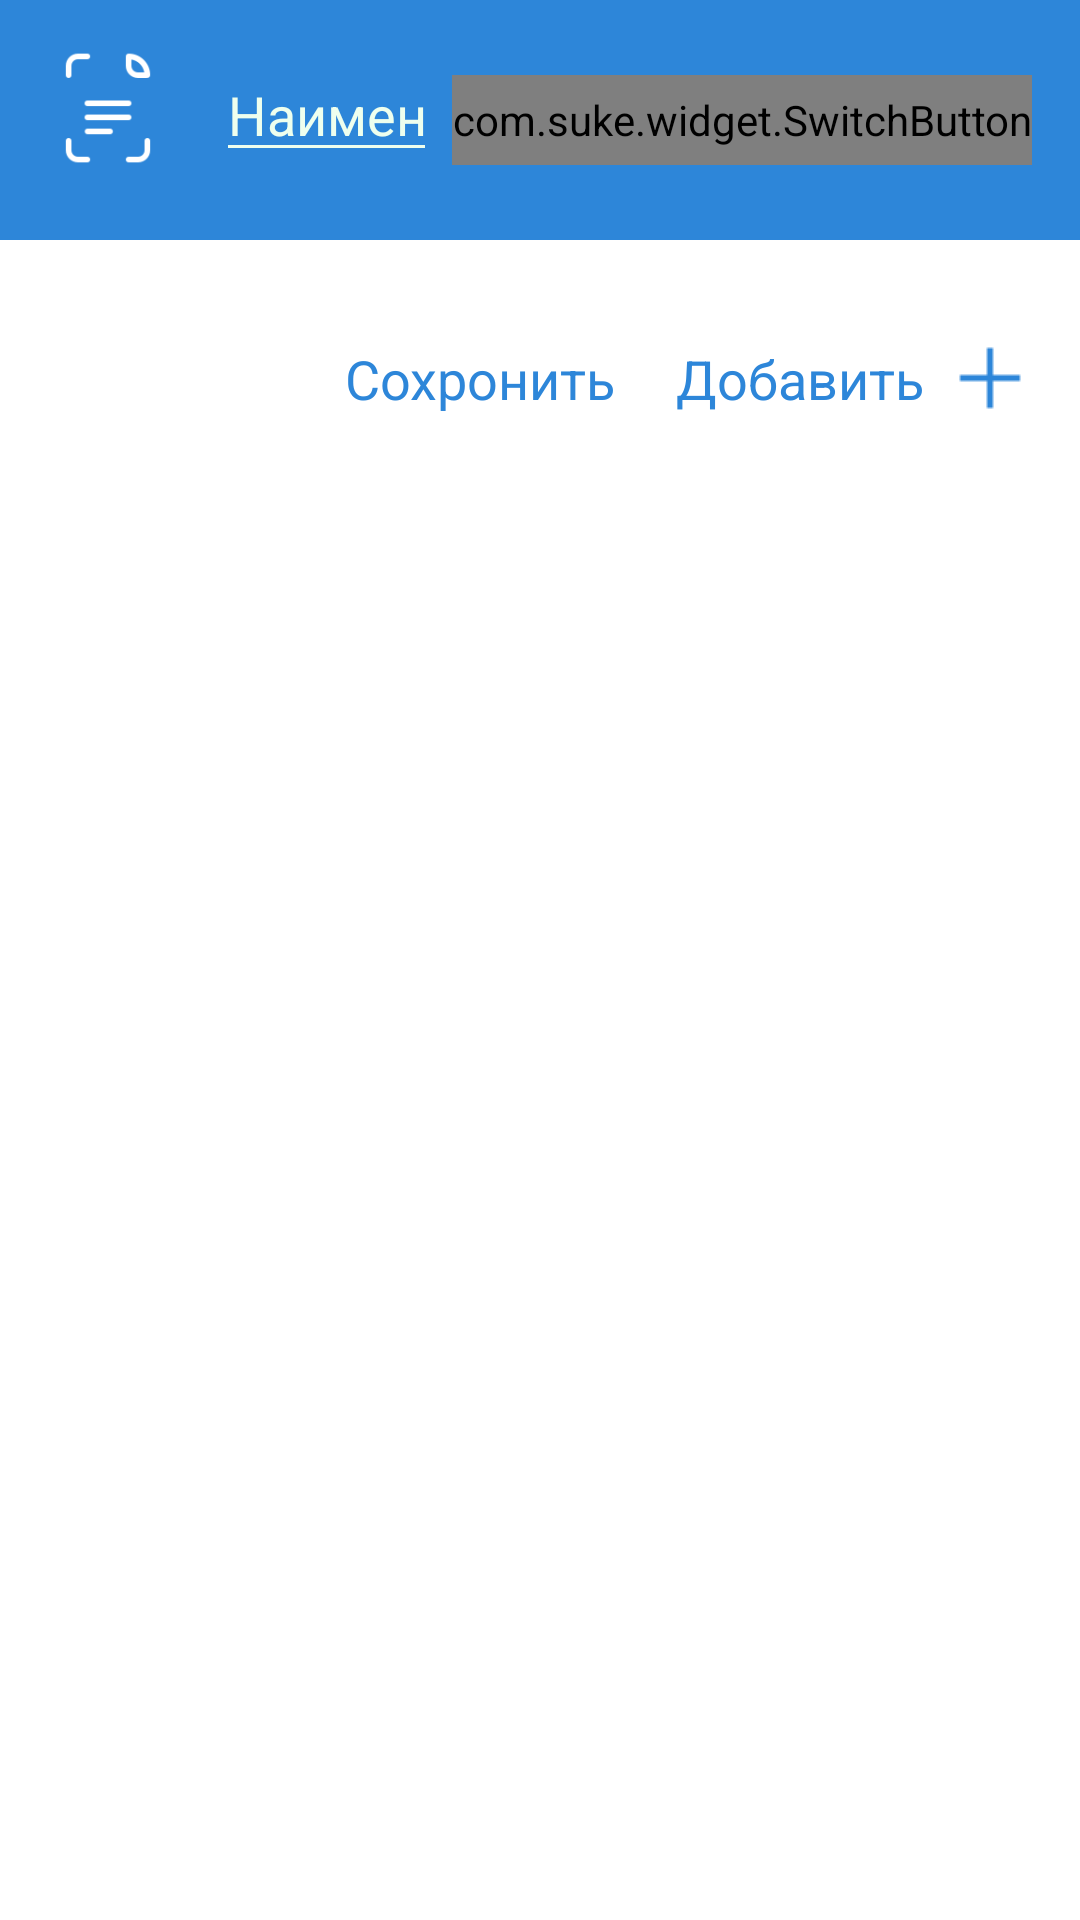

Icons on this 1080px x 1920px Android screen, each with its box as [left=x1, top=y1, right=x2, bottom=y2]:
file: [left=65, top=53, right=151, bottom=163]
